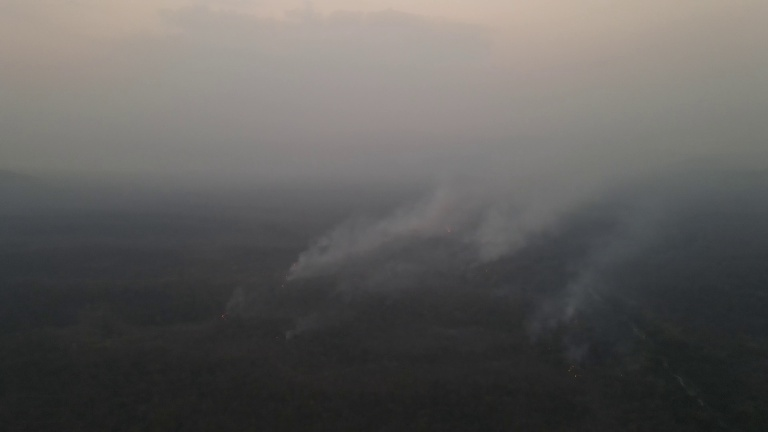fire: (279, 262, 300, 295), (563, 361, 580, 379), (219, 312, 228, 326)
smoke: (279, 145, 666, 359), (214, 284, 260, 333)
